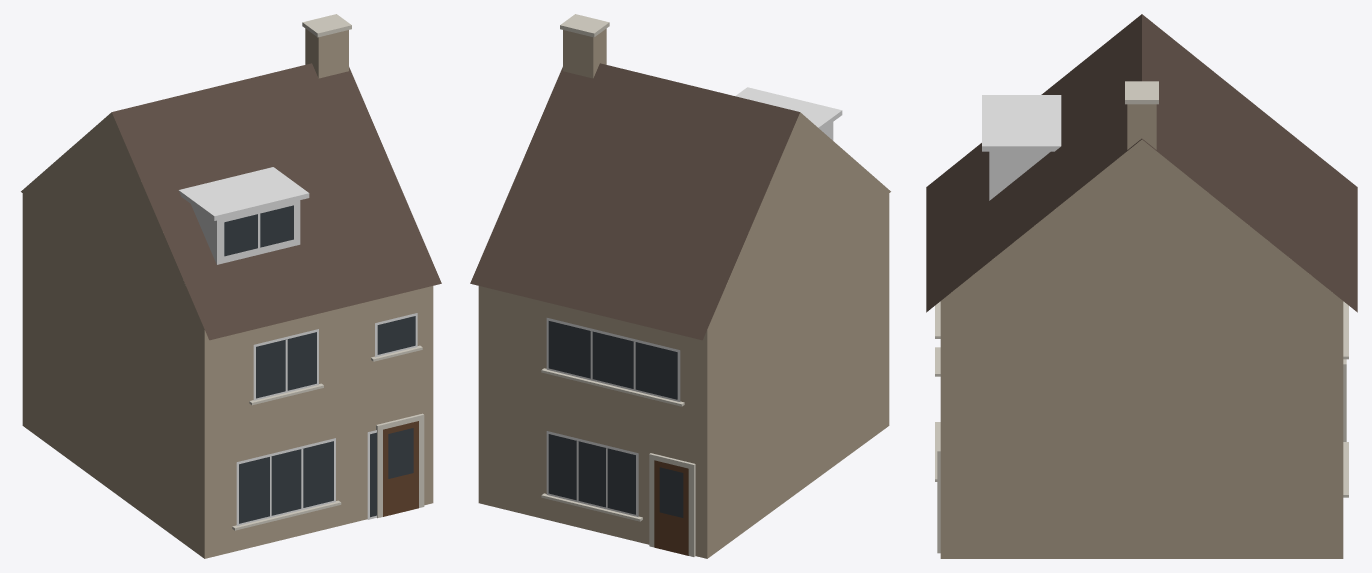
The model's file is ws-dk-1986__brown__2__gable__long__solid__mirror.glb.
3 renders of one model, left to right at view 1: azimuth 30°, elevation 25°; view 2: azimuth 150°, elevation 25°; view 3: azimuth 270°, elevation 25°, orthographic. The views are drawn at different scales.
Parts seen in each view (by area): view 1: ws-dk-1986__brown__2__gable__long__solid__mirror; view 2: ws-dk-1986__brown__2__gable__long__solid__mirror; view 3: ws-dk-1986__brown__2__gable__long__solid__mirror.
Boxes of the visible parts, x1,y1,x2,y2 form: ws-dk-1986__brown__2__gable__long__solid__mirror: (21, 14, 441, 558); ws-dk-1986__brown__2__gable__long__solid__mirror: (470, 14, 890, 558); ws-dk-1986__brown__2__gable__long__solid__mirror: (926, 14, 1357, 558).
Size of the model in its own units: 6.13 by 10.48 by 8.91.
